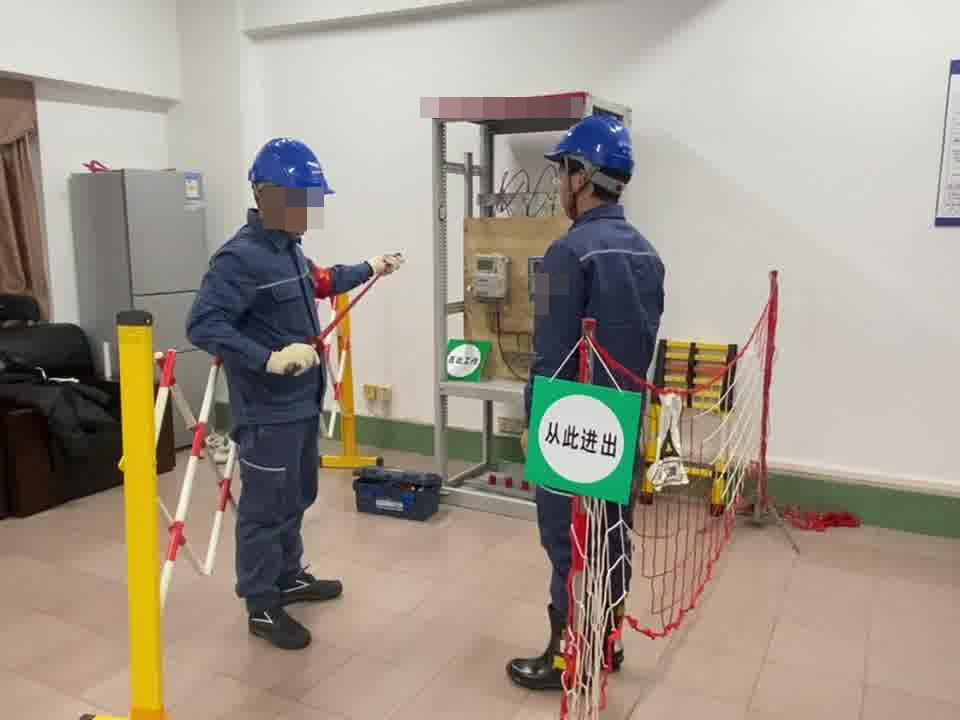badge: (311, 263, 333, 300)
downsuit: (231, 428, 322, 601)
halt: (548, 113, 638, 211), (247, 138, 333, 235)
inear: (561, 161, 597, 200), (253, 183, 281, 218)
intosign: (521, 376, 640, 508)
person: (510, 102, 674, 707), (189, 135, 384, 638)
shoe: (510, 594, 629, 690)
sleeve: (533, 273, 561, 307)
testrod: (309, 264, 389, 346)
upsuit: (195, 222, 332, 418), (527, 208, 668, 392)
wglove: (268, 341, 321, 372), (369, 246, 410, 277)
worksign: (433, 334, 490, 386)
